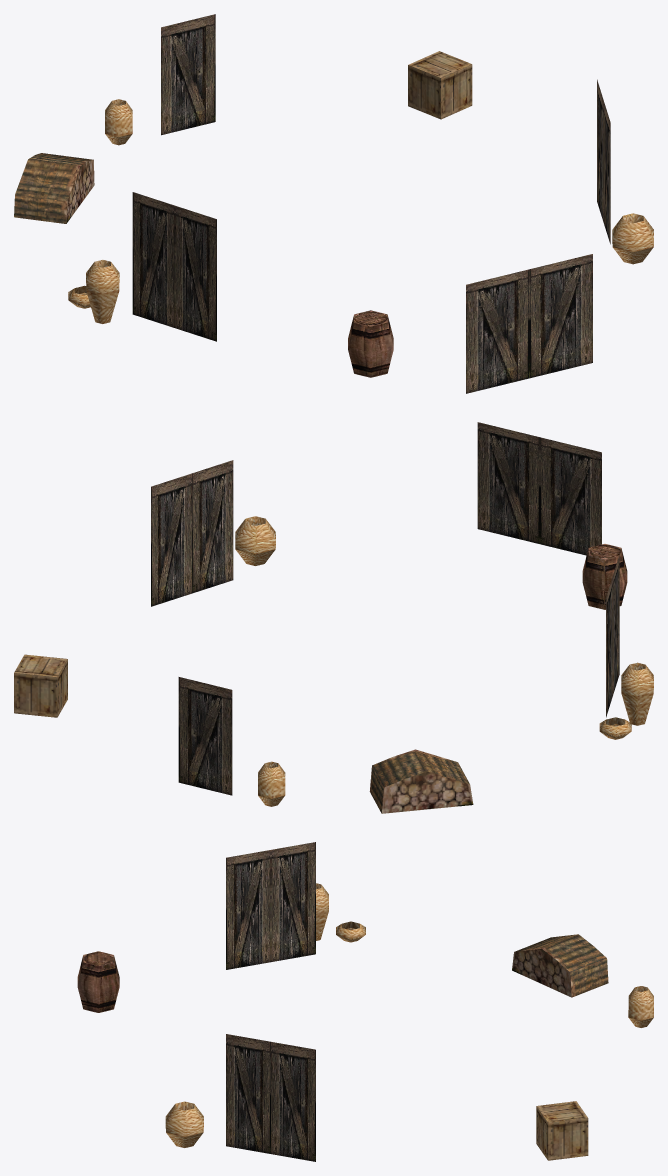
The model's file is celt_cc_props1.dae.
3 renders of one model, top to bottom at view 1: azimuth 30°, elevation 25°; view 2: azimuth 150°, elevation 25°; view 3: azimuth 270°, elevation 25°, orthographic. The views are drawn at different scales.
Parts seen in each view (by area): view 1: crate03; view 2: crate03; view 3: crate03.
Boxes of the visible parts, x1=… form: crate03: x1=14, y1=14, x2=653, y2=393; crate03: x1=14, y1=422, x2=653, y2=813; crate03: x1=77, y1=842, x2=653, y2=1161.
Size of the model in its own units: 19.54 by 22.99 by 4.45.
